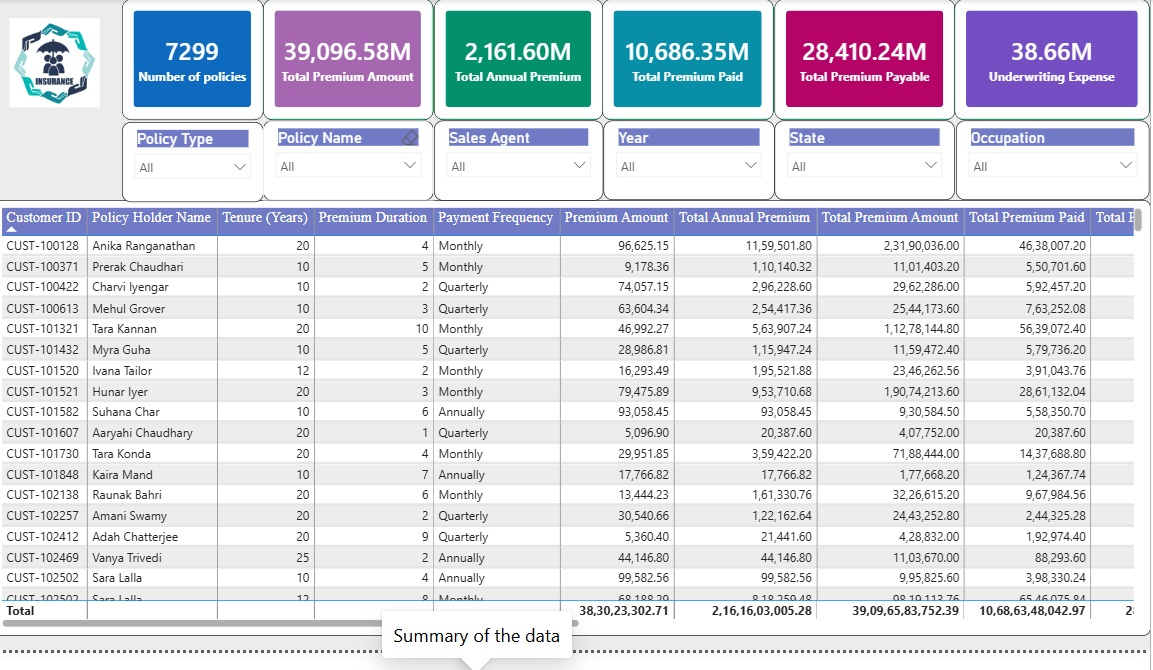

The page's visual inventory and layout, read from the dashboard file:
{"tool":"powerbi","page":{"name":"Summary of the data","canvas":[1280,720],"ordinal":2},"visuals":[{"type":"cardVisual","fields":{"Data":["CountNonNull(DM Customer_Detail_Table.Customer ID)"]},"box":[141.9,0,156.5,133.9],"z":0},{"type":"cardVisual","fields":{"Data":["Sum(FCT Insurance_Policy_Table.Total Annual Premium)"]},"box":[487.1,0,187.1,133.9],"z":1000},{"type":"cardVisual","fields":{"Data":["Sum(FCT Insurance_Policy_Table.Total Premium Amount)"]},"box":[298.4,0,188.7,133.9],"z":2000},{"type":"cardVisual","fields":{"Data":["Sum(FCT Insurance_Policy_Table.Total Premium Paid)"]},"box":[674.2,0,190.3,133.9],"z":3000},{"type":"cardVisual","fields":{"Data":["Sum(FCT Insurance_Policy_Table.Total Premium Payable)"]},"box":[864.5,0,200,133.9],"z":4000},{"type":"cardVisual","fields":{"Data":["FCT Insurance_Policy_Table.underwriting expense"]},"box":[1064.5,0,216.1,133.9],"z":5000},{"type":"image","box":[17.7,16.1,100,108.1],"z":6000},{"type":"tableEx","fields":{"Values":["DM Customer_Detail_Table.Customer ID","DM Customer_Detail_Table.Policy Holder Name","FCT Insurance_Policy_Table.Tenure (Years)","FCT Insurance_Policy_Table.Premium Payment Duration","FCT Insurance_Policy_Table.Payment Frequency","Sum(FCT Insurance_Policy_Table.Premium Amount)","Sum(FCT Insurance_Policy_Table.Total Annual Premium)","Sum(FCT Insurance_Policy_Table.Total Premium Amount)","Sum(FCT Insurance_Policy_Table.Total Premium Paid)","Sum(FCT Insurance_Policy_Table.Total Premium Payable)","Sum(FCT Insurance_Policy_Table.Sum Assured INR/Coverage Amount)","Sum(FCT Insurance_Policy_Table.Maturity Amount)"]},"box":[0,222.6,1280.6,482.3],"z":7000},{"type":"slicer","fields":{"Values":["DM Policy_Type.Policy Type"]},"box":[142.7,136.1,156.5,88.7],"z":8000},{"type":"slicer","fields":{"Values":["DM Policy_Protection_Plan.Policy Name"]},"box":[298.4,133.9,188.7,88.7],"z":9000},{"type":"slicer","fields":{"Values":["DM Insurance_Agent_Table.Sales Agent"]},"box":[487.1,133.9,187.1,88.7],"z":10000},{"type":"slicer","fields":{"Values":["FCT Insurance_Policy_Table.Start Date.Variation.Date Hierarchy.Year"]},"box":[675.4,134.4,189.2,88],"z":11000},{"type":"slicer","fields":{"Values":["DM Customer_Detail_Table.Occupation"]},"box":[1065.4,134.4,214.1,88],"z":12000},{"type":"slicer","fields":{"Values":["DM Customer_Detail_Table.State"]},"box":[864.6,134.4,199.1,88],"z":13000}]}

Visuals, with their boxes on the page's 1280x720 design canvas (x1, y1, x2, y2). These are canvas units, not pixel positions in the 1153x670 screenshot, which may show the page scaled, cropped or inside an application window:
cardVisual - CountNonNull(DM Customer_Detail_Table.Customer ID): bbox=[142, 0, 298, 134]
cardVisual - Sum(FCT Insurance_Policy_Table.Total Annual Premium): bbox=[487, 0, 674, 134]
cardVisual - Sum(FCT Insurance_Policy_Table.Total Premium Amount): bbox=[298, 0, 487, 134]
cardVisual - Sum(FCT Insurance_Policy_Table.Total Premium Paid): bbox=[674, 0, 864, 134]
cardVisual - Sum(FCT Insurance_Policy_Table.Total Premium Payable): bbox=[864, 0, 1064, 134]
cardVisual - FCT Insurance_Policy_Table.underwriting expense: bbox=[1064, 0, 1281, 134]
image: bbox=[18, 16, 118, 124]
tableEx - DM Customer_Detail_Table.Customer ID x DM Customer_Detail_Table.Policy Holder Name: bbox=[0, 223, 1281, 705]
slicer - DM Policy_Type.Policy Type: bbox=[143, 136, 299, 225]
slicer - DM Policy_Protection_Plan.Policy Name: bbox=[298, 134, 487, 223]
slicer - DM Insurance_Agent_Table.Sales Agent: bbox=[487, 134, 674, 223]
slicer - FCT Insurance_Policy_Table.Start Date.Variation.Date Hierarchy.Year: bbox=[675, 134, 865, 222]
slicer - DM Customer_Detail_Table.Occupation: bbox=[1065, 134, 1280, 222]
slicer - DM Customer_Detail_Table.State: bbox=[865, 134, 1064, 222]
